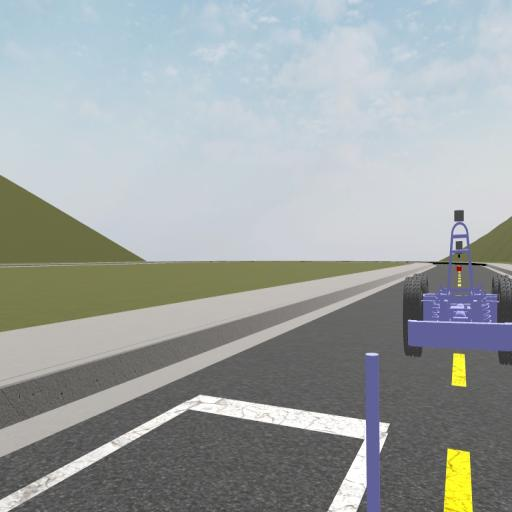ERP-42: (401, 208, 512, 369)
